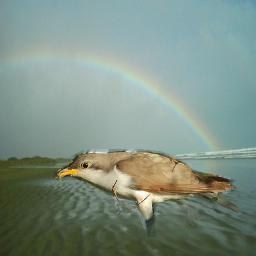Cuckoo: (53, 149, 238, 237)
